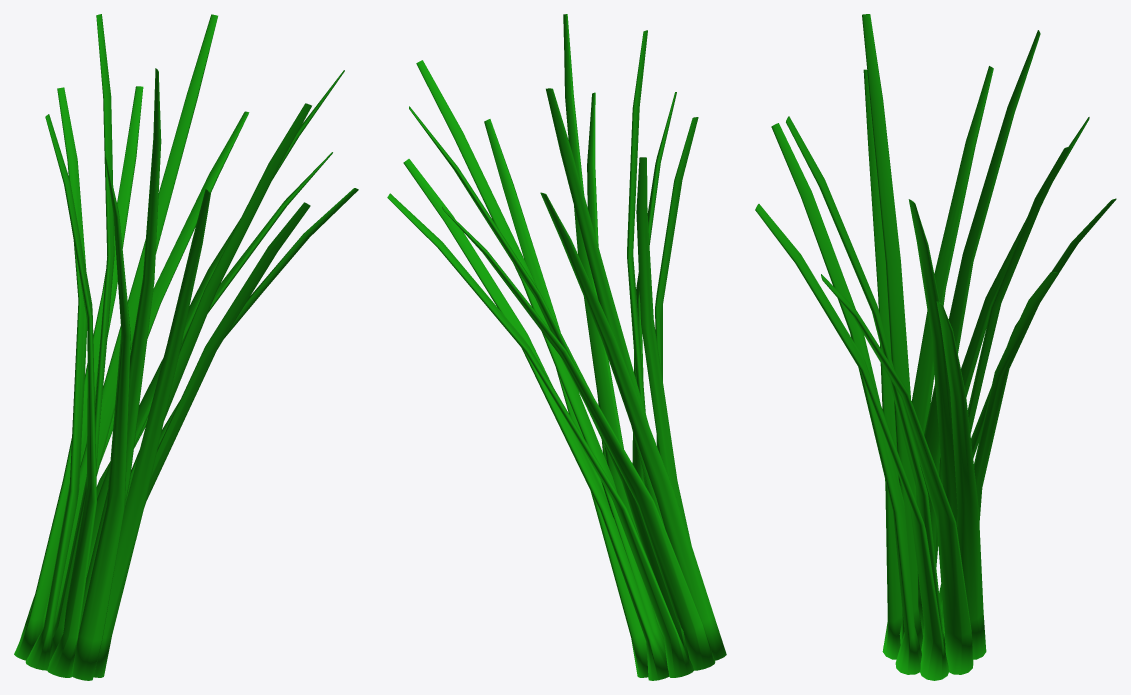
Rendered from Grass_Patch.obj.
The picture shows the model from 3 angles, left to right: view 1: azimuth 30°, elevation 25°; view 2: azimuth 150°, elevation 25°; view 3: azimuth 270°, elevation 25°; orthographic projection. The views are drawn at different scales.
Visible parts, largest first — view 1: box1; view 2: box1; view 3: box1.
Boxes of the visible parts, x1,y1,x2,y2 form: box1: [14, 14, 358, 680]; box1: [387, 14, 726, 680]; box1: [755, 14, 1116, 680].
Bounding box in the file's own units: 9.32 × 17.3 × 8.31.
1 material, 1 textured.
